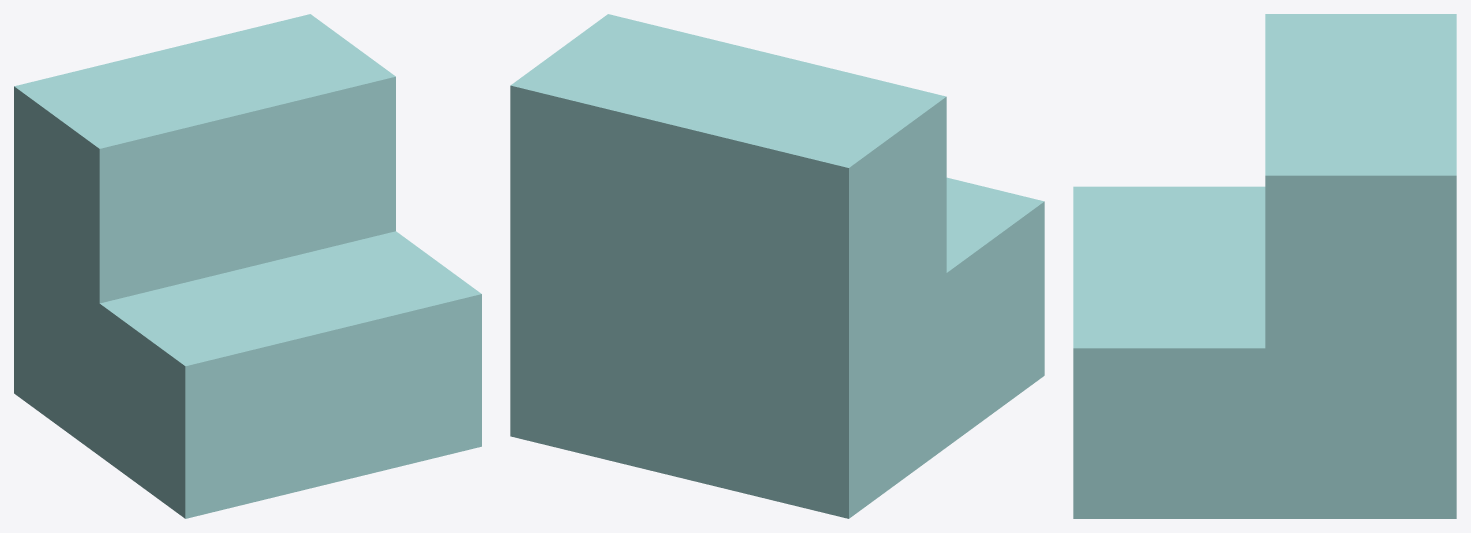
File: Stairs_Only.fbx
3 renders of one model, left to right at view 1: azimuth 30°, elevation 25°; view 2: azimuth 150°, elevation 25°; view 3: azimuth 270°, elevation 25°, orthographic. The views are drawn at different scales.
Parts seen in each view (by area): view 1: stairs_only; view 2: stairs_only; view 3: stairs_only.
Part boxes in pixels (left/top/right/bottom): stairs_only: left=14, top=14, right=481, bottom=518; stairs_only: left=510, top=14, right=1044, bottom=518; stairs_only: left=1073, top=14, right=1456, bottom=518.
Size of the model in its own units: 1 by 0.9906 by 1.
